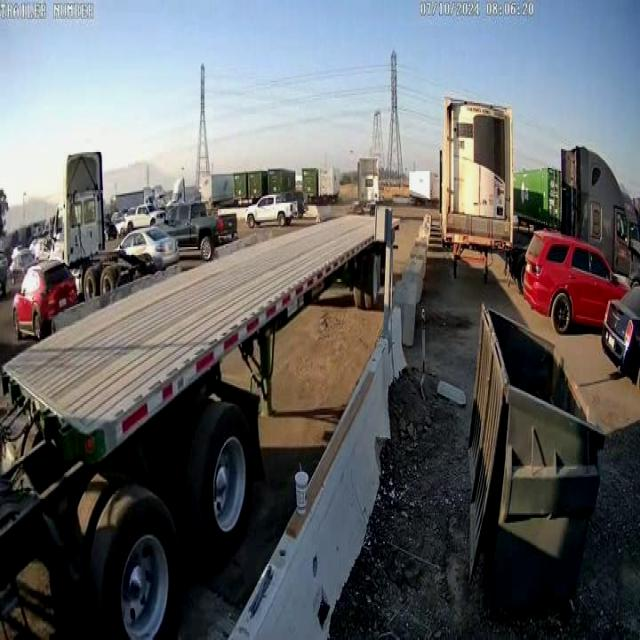BOBTAIL: (1, 203, 403, 638)
